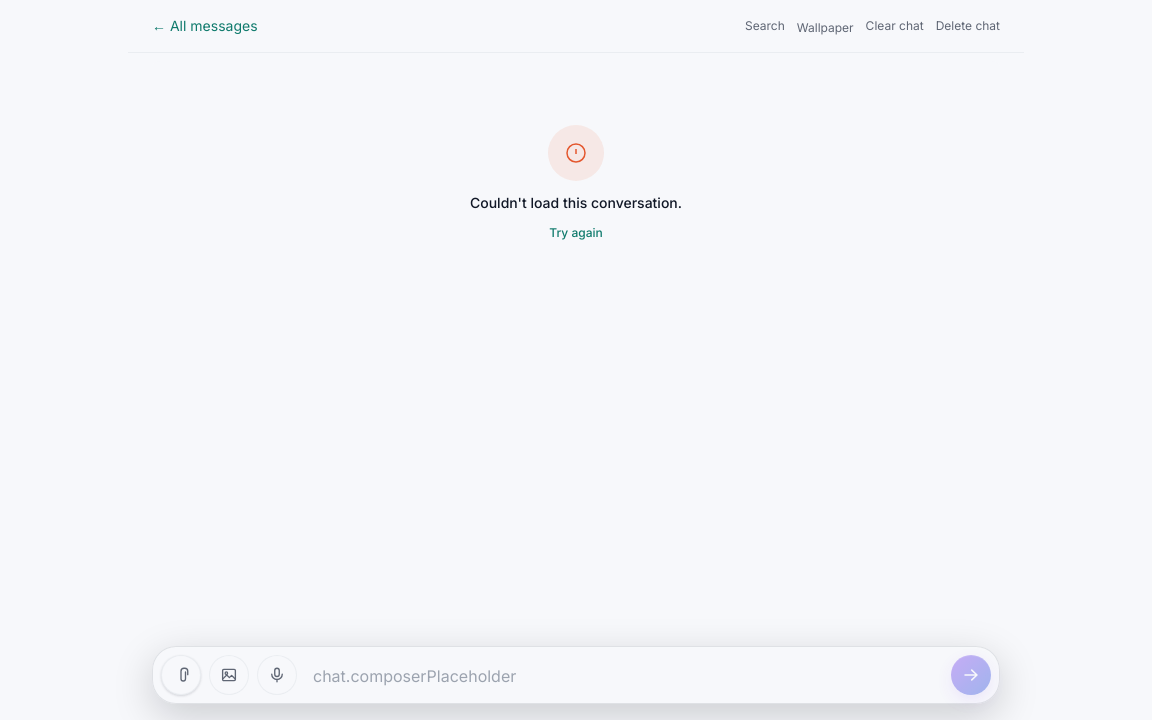
Test: ConversationThread page › shows a retryable error state when the history fetch fails, not the empty-conversation state
Expected: the message shows "Couldn't load this conversation.", [470,194,682,211]
Expected: the text "No messages here yet." is not shown
Click the button "Try again" at (576,233), box [549,225,603,241]
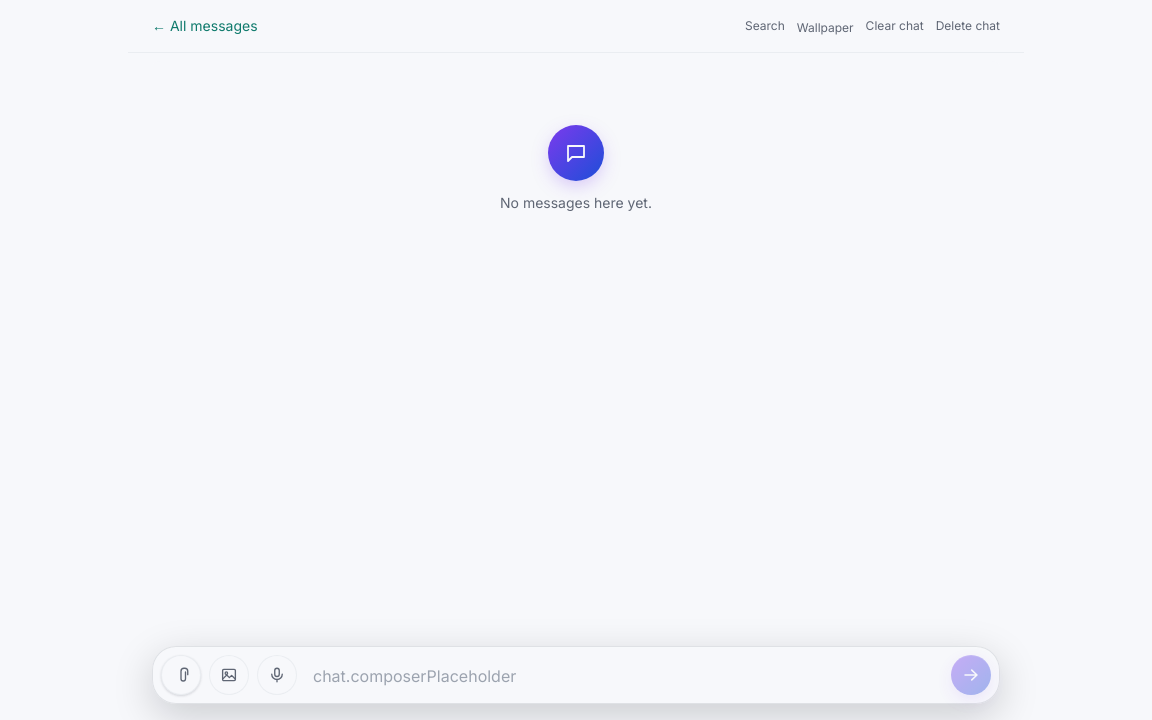
Now the text "No messages here yet." is shown, box [500,193,652,213]
